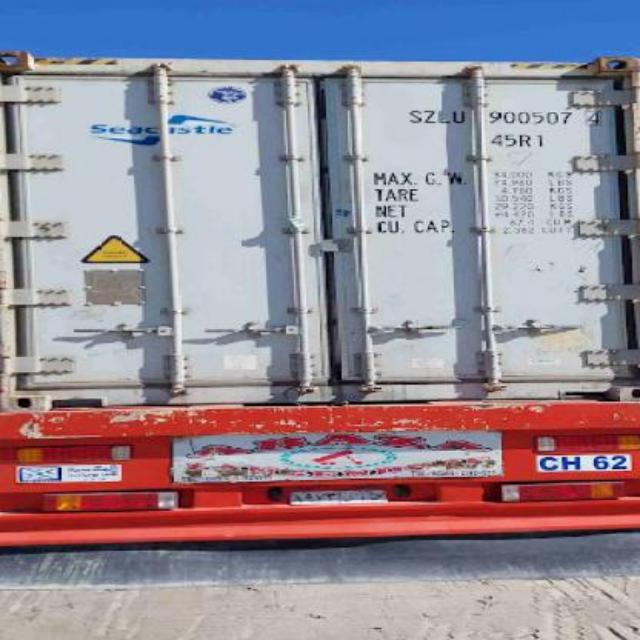0: (500, 95, 518, 128), (544, 99, 560, 128), (516, 96, 530, 128)
4: (586, 108, 600, 128)
5: (532, 102, 546, 130)
7: (560, 101, 576, 133)
9: (486, 101, 504, 125)
L: (432, 100, 450, 128)
S: (400, 104, 420, 126)
U: (450, 100, 468, 126)
Z: (418, 103, 436, 129)
